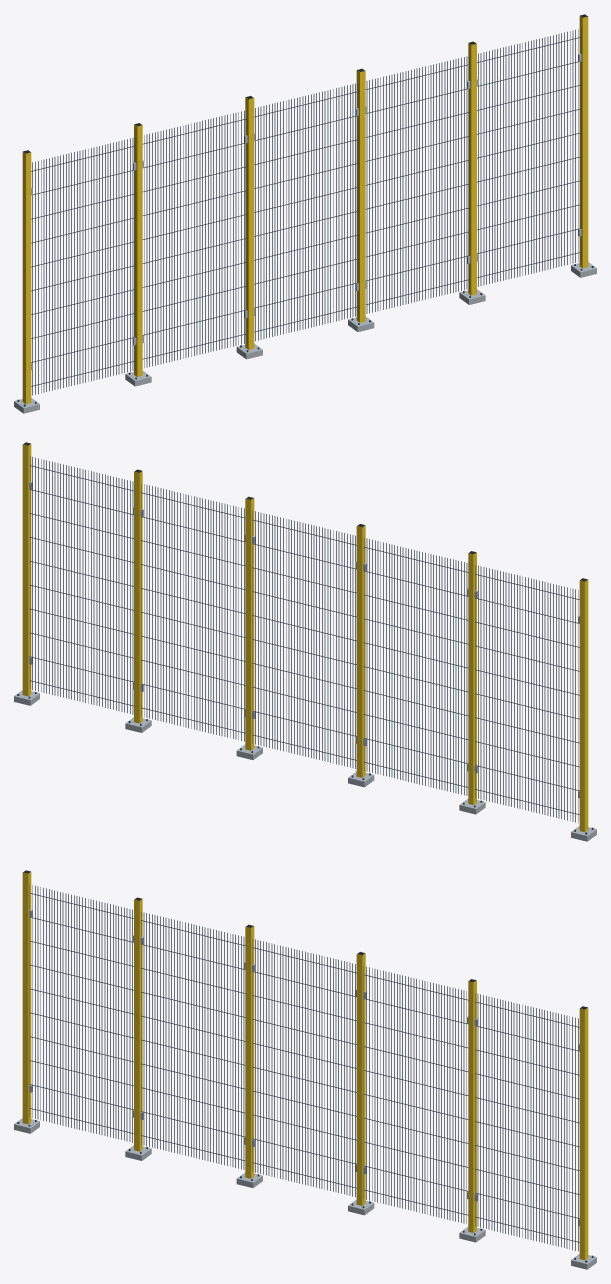
3 renders of one model, top to bottom at view 1: azimuth 30°, elevation 25°; view 2: azimuth 150°, elevation 25°; view 3: azimuth 330°, elevation 25°, orthographic.
Parts seen in each view (by area): view 1: face-y--1 (×6), face-x--1 (×6); view 2: face-y-1 (×6), face-x--1 (×6); view 3: face-y--1 (×6), face-x-1 (×6).
Part boxes in pixels (x1,y1,x2,y2): face-y--1 (×6): (26, 17, 587, 404); face-x--1 (×6): (22, 16, 582, 403); face-y-1 (×6): (23, 444, 584, 832); face-x--1 (×6): (28, 444, 588, 831); face-y--1 (×6): (23, 872, 584, 1260); face-x-1 (×6): (28, 872, 588, 1259).
Bounding box in the file's own units: 5.15 × 2.2 × 0.15.
